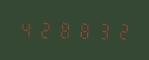eight: (56, 19, 74, 39), (75, 20, 93, 40)
four: (17, 19, 35, 39)
three: (94, 20, 112, 40)
two: (36, 19, 54, 39), (113, 20, 131, 40)
